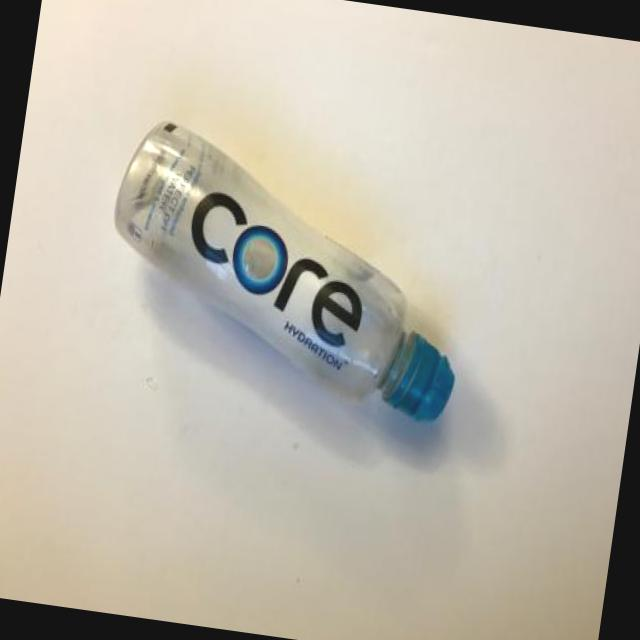Recycle: (90, 110, 488, 438)
